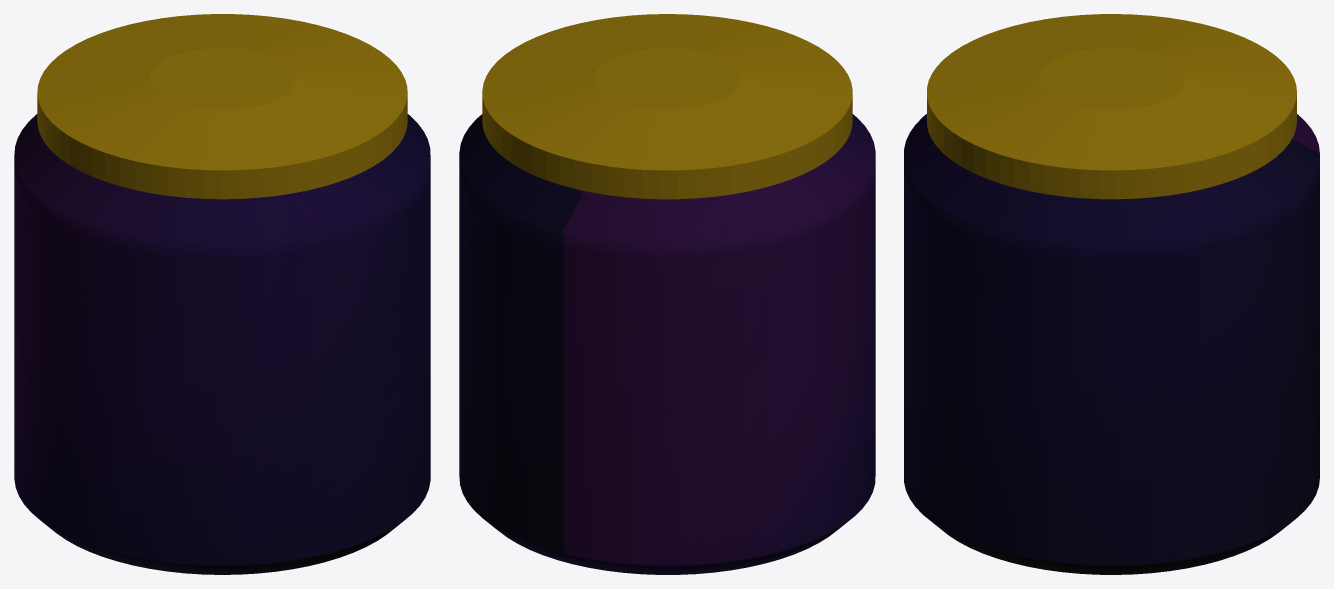
File: Spirits.fbx
3 views of the same model, side by side, from view 1: azimuth 30°, elevation 25°; view 2: azimuth 150°, elevation 25°; view 3: azimuth 270°, elevation 25° (orthographic).
Parts seen in each view (by area): view 1: Cylinder, Cylinder.001; view 2: Cylinder, Cylinder.001; view 3: Cylinder, Cylinder.001.
Part boxes in pixels (box(x1,y1,x2,y2)): Cylinder: box(14, 114, 430, 574); Cylinder.001: box(37, 14, 407, 199); Cylinder: box(459, 114, 875, 574); Cylinder.001: box(482, 14, 852, 199); Cylinder: box(904, 114, 1319, 574); Cylinder.001: box(927, 14, 1296, 199).
Bounding box in the file's own units: 200 × 221 × 200.
